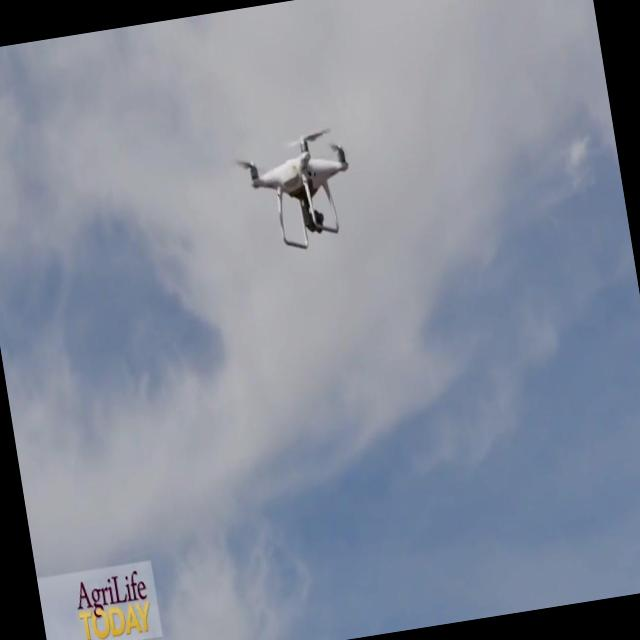drone: (236, 125, 362, 258)
